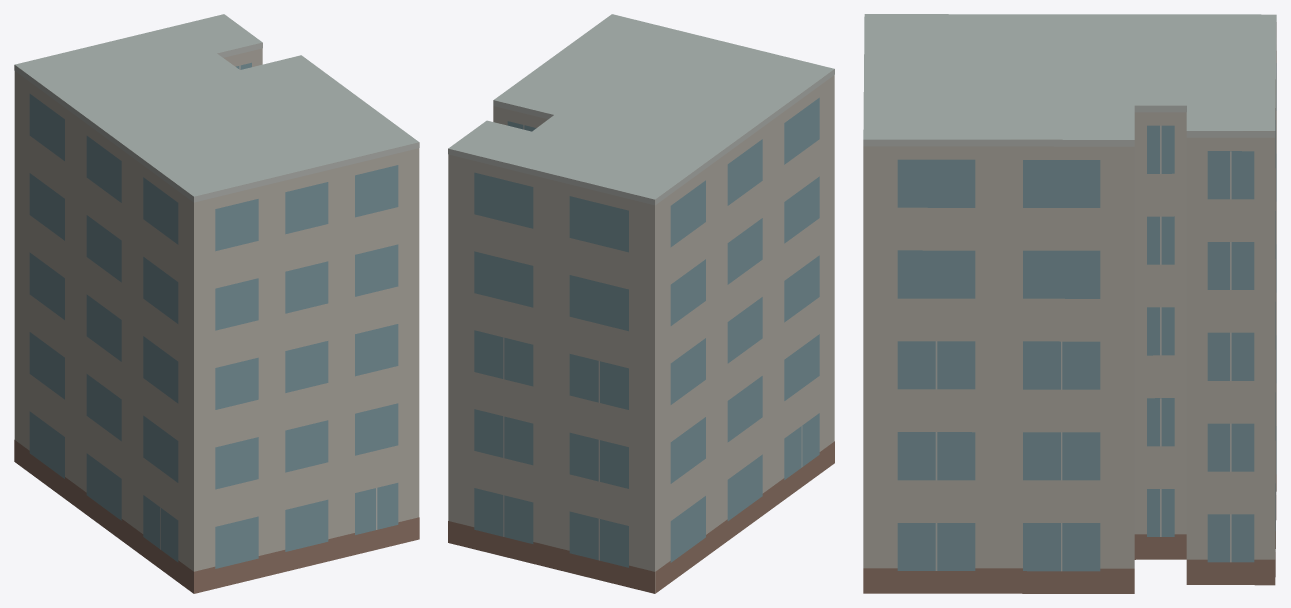
The model's file is survey-upis-32874695.glb.
3 renders of one model, left to right at view 1: azimuth 30°, elevation 25°; view 2: azimuth 150°, elevation 25°; view 3: azimuth 270°, elevation 25°, orthographic. The views are drawn at different scales.
Visible parts, largest first — view 1: survey-upis-32874695.tmp; view 2: survey-upis-32874695.tmp; view 3: survey-upis-32874695.tmp.
Boxes of the visible parts, x1,y1,x2,y2 form: survey-upis-32874695.tmp: [14, 14, 419, 593]; survey-upis-32874695.tmp: [448, 14, 834, 593]; survey-upis-32874695.tmp: [863, 14, 1276, 593].
Bounding box in the file's own units: 9.82 × 16.5 × 13.62.
